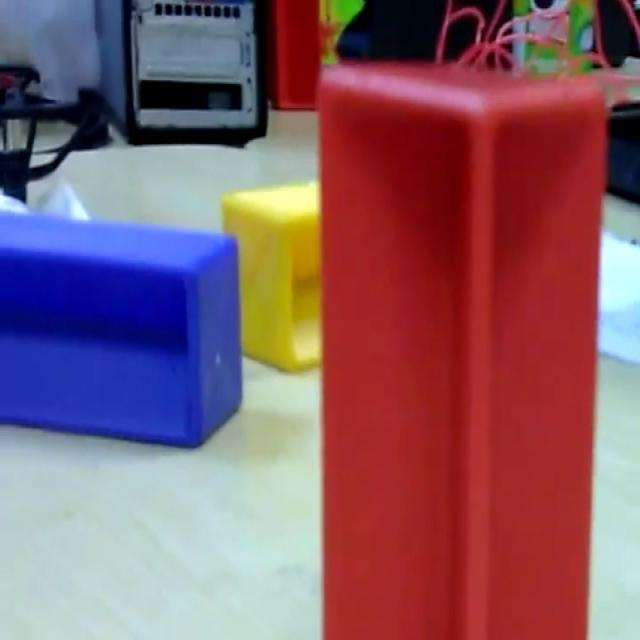blue_block: (0, 206, 243, 450)
red_block: (317, 57, 607, 636)
yellow_block: (220, 177, 322, 372)
